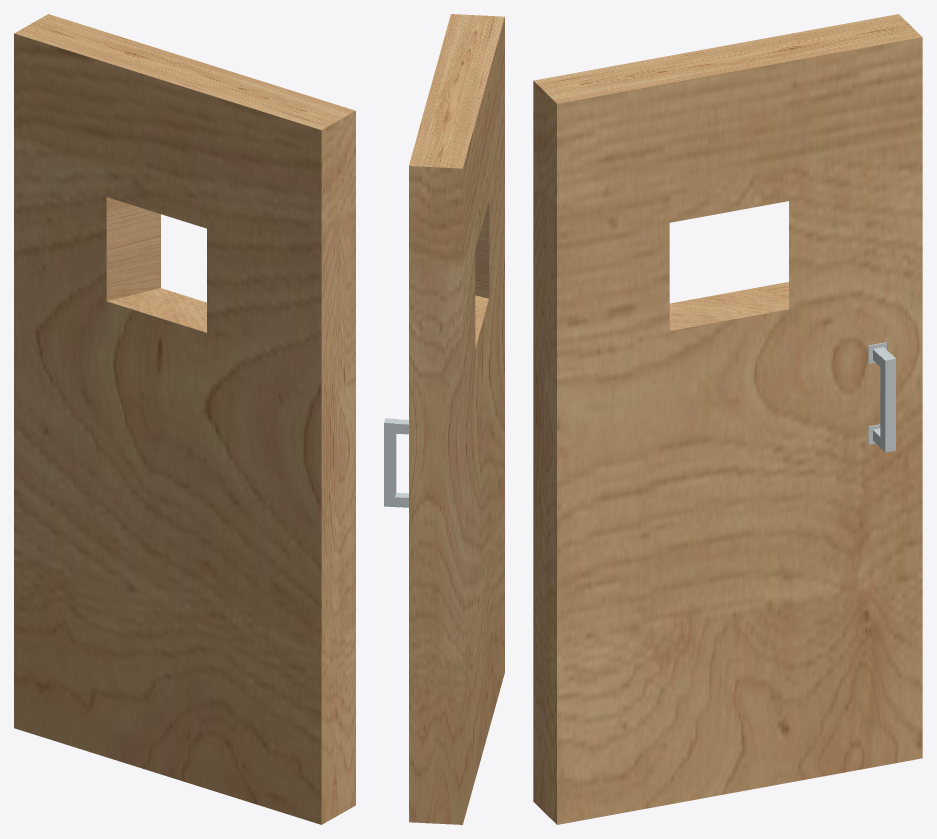
Rendered from Door.glb.
3 renders of one model, left to right at view 1: azimuth 30°, elevation 25°; view 2: azimuth 150°, elevation 25°; view 3: azimuth 270°, elevation 25°, orthographic. The views are drawn at different scales.
Visible parts, largest first — view 1: Door-col; view 2: Door-col, HandleBaseDown.003, HandleBaseDown.002, HandleBaseDown.001; view 3: Door-col, HandleBaseDown.003.
Boxes of the visible parts, left/top/right/bottom form: Door-col: left=14, top=14, right=355, bottom=824; Door-col: left=409, top=14, right=504, bottom=824; HandleBaseDown.003: left=384, top=418, right=396, bottom=506; HandleBaseDown.002: left=384, top=419, right=408, bottom=434; HandleBaseDown.001: left=384, top=492, right=408, bottom=507; Door-col: left=533, top=14, right=922, bottom=824; HandleBaseDown.003: left=880, top=354, right=895, bottom=452.
Size of the model in its own units: 1.07 by 4 by 1.96.
2 materials, 1 textured.
